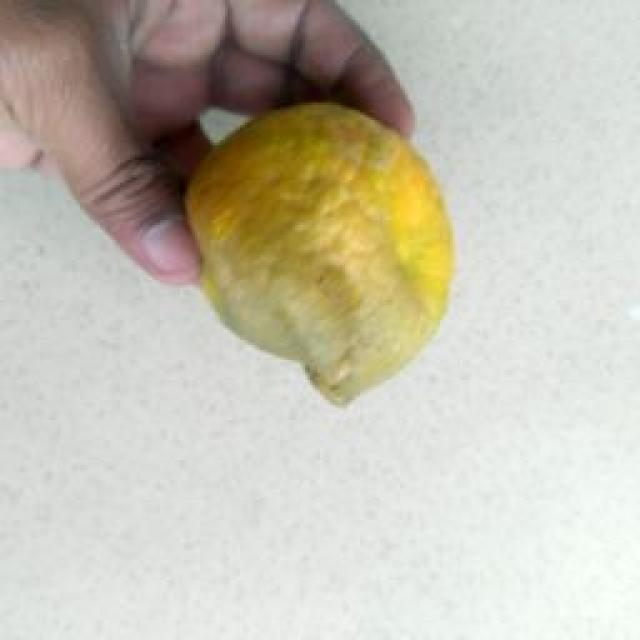Bad_Orange: (186, 102, 452, 403)
